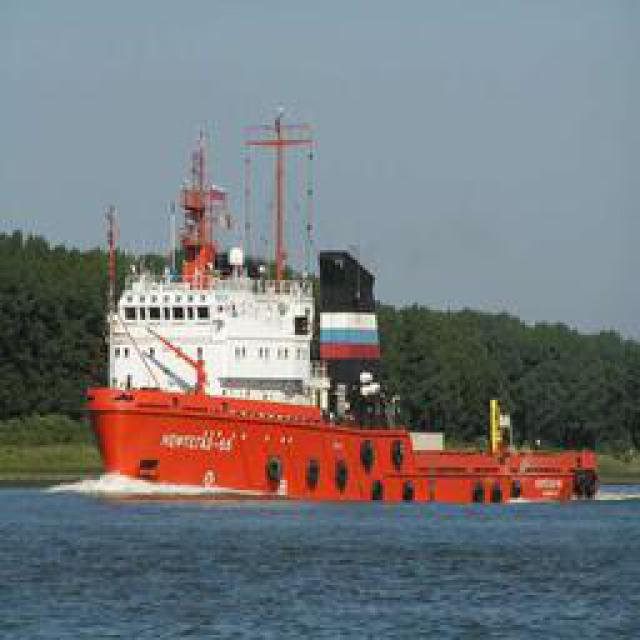Ship: (79, 103, 549, 488)
